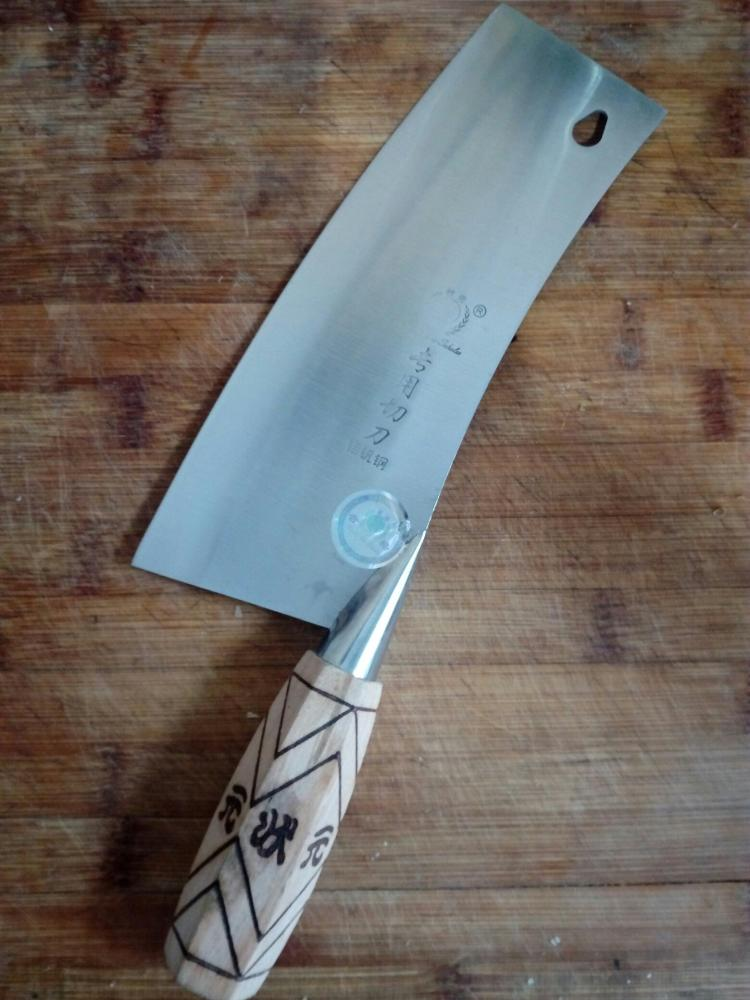knief: (100, 29, 659, 959)
